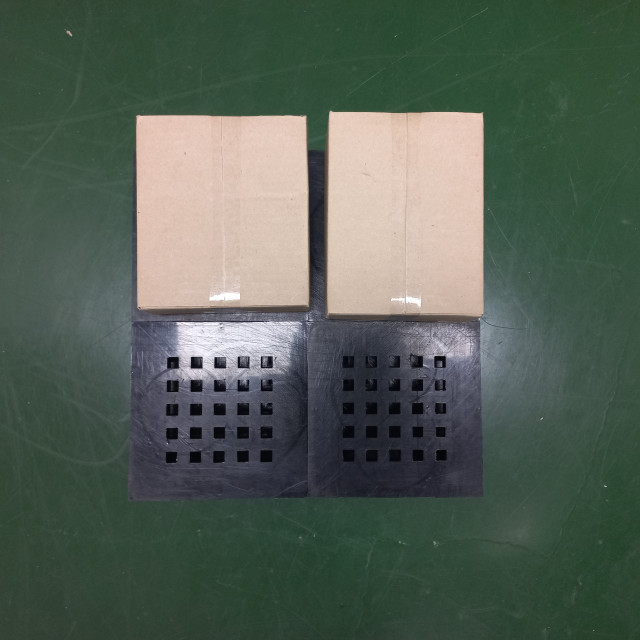box: (133, 111, 310, 313), (326, 109, 486, 320), (328, 326, 460, 527), (197, 317, 318, 531)
